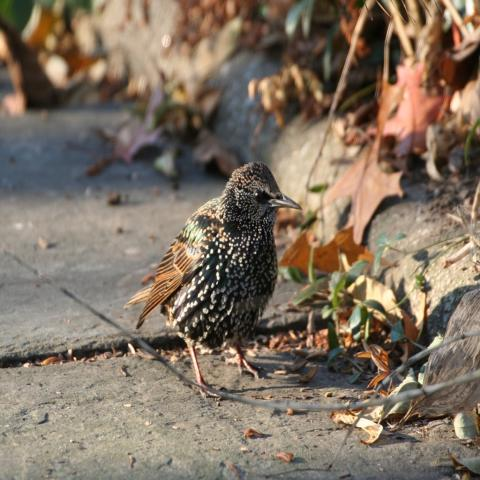bird: (122, 158, 303, 399)
